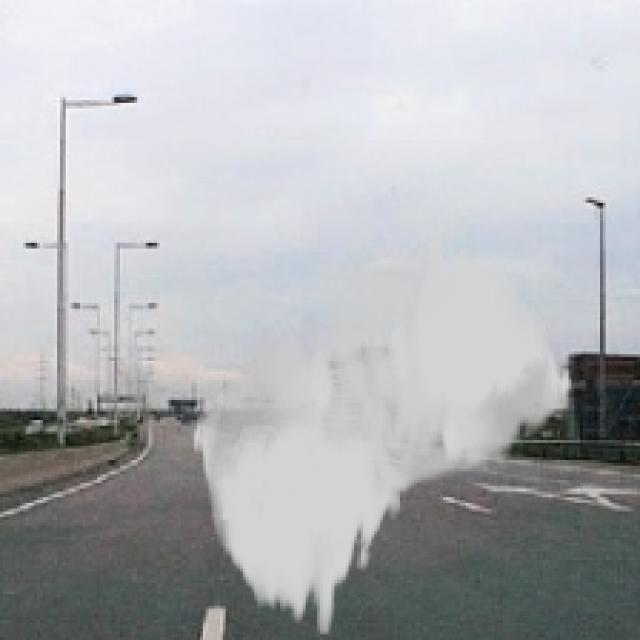Smoke: (192, 235, 574, 634)
